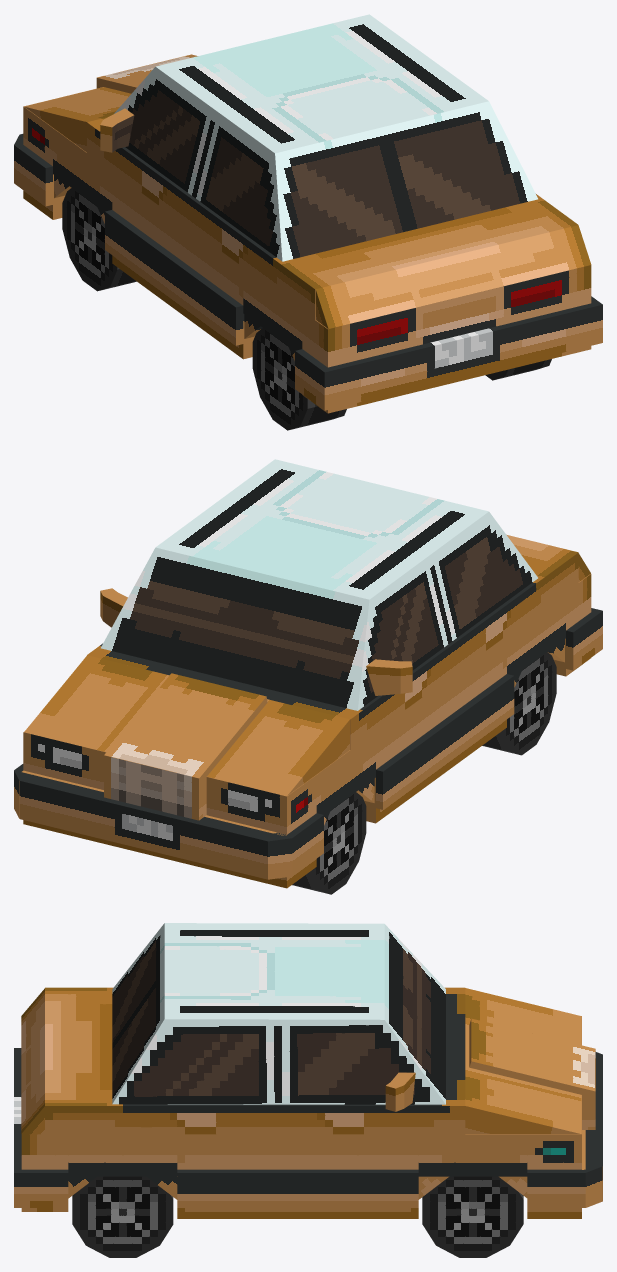
File: car_1.gltf
3 views of the same model, one above another, from view 1: azimuth 30°, elevation 25°; view 2: azimuth 150°, elevation 25°; view 3: azimuth 270°, elevation 25° (orthographic). The views are drawn at different scales.
Parts seen in each view (by area): view 1: cube (×12), cuboid (×2), cylinder (×2); view 2: cube (×14), cuboid (×3), cylinder (×2); view 3: cube (×15), cuboid (×2), cylinder (×2).
Part boxes in pixels (x1=…): cube (×12): x1=14, y1=54, x2=602, y2=413; cuboid (×2): x1=100, y1=14, x2=537, y2=261; cylinder (×2): x1=62, y1=188, x2=346, y2=430; cube (×14): x1=14, y1=534, x2=602, y2=888; cuboid (×3): x1=100, y1=459, x2=537, y2=710; cylinder (×2): x1=292, y1=652, x2=556, y2=894; cube (×15): x1=14, y1=987, x2=602, y2=1218; cuboid (×2): x1=112, y1=923, x2=445, y2=1111; cylinder (×2): x1=72, y1=1176, x2=523, y2=1257.
Bounding box in the file's own units: 3.41 × 2.62 × 6.06.
Materials: 1 (1 with a texture image).
